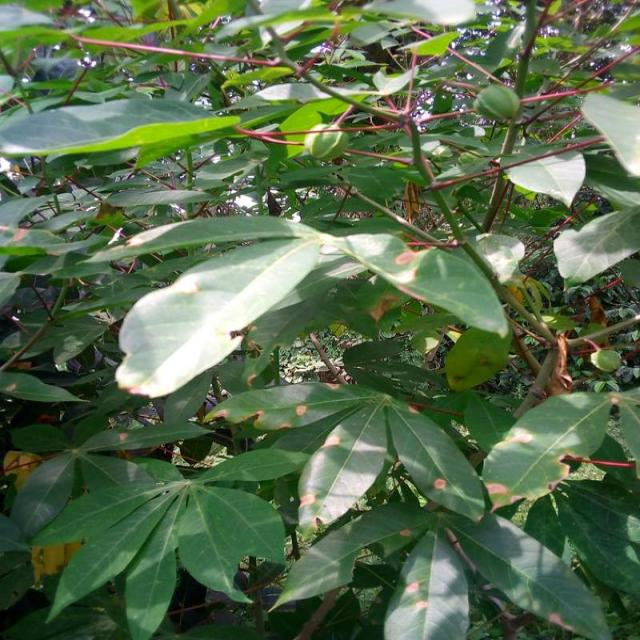cassava leaf: (114, 214, 511, 399), (0, 92, 241, 170)
